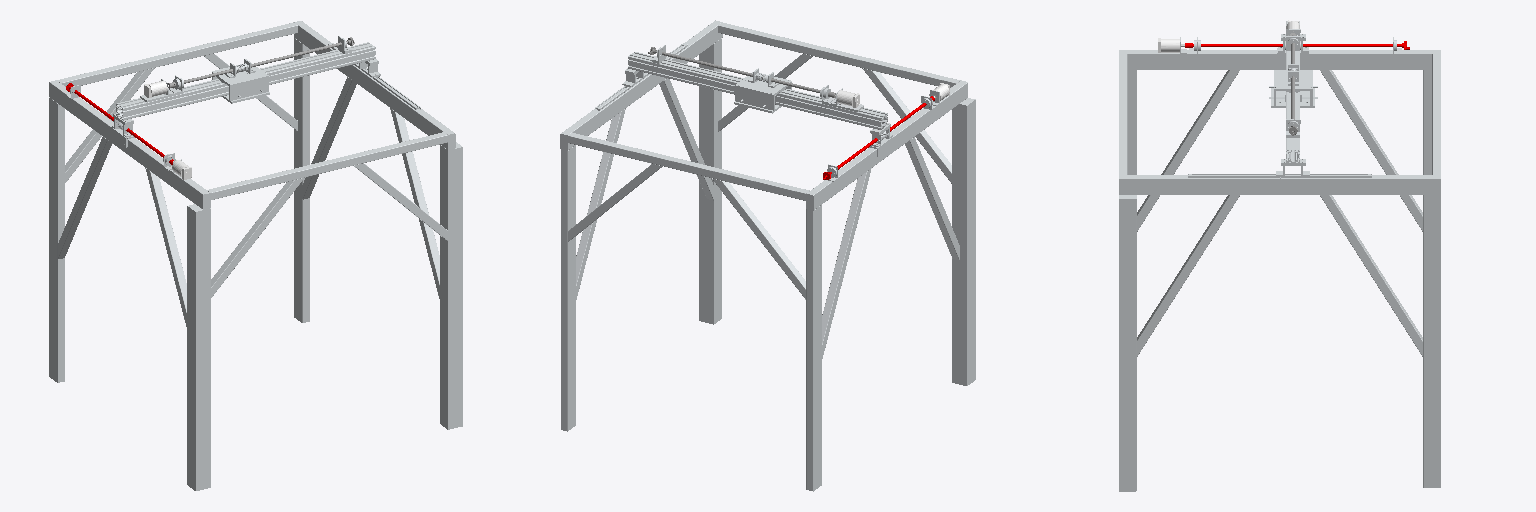
The robot description file, URDF, robot "gantry_description":
<?xml version="1.0" encoding="utf-8"?>
<!-- This URDF was automatically created by SolidWorks to URDF Exporter! Originally created by [author] ([email redacted]) 
     Commit Version: 1.5.1-0-g916b5db  Build Version: 1.5.7152.31018
     For more information, please see http://wiki.ros.org/sw_urdf_exporter -->
<robot
  name="gantry_description">

  <link name="world">
  </link>
  
  <link name="base_link">
    <inertial>
      <origin rpy="0 0 0" xyz="0 0 0.95"/>
      <mass value="236"/>
      <inertia ixx="0" iyy="0" izz="0" ixy="0" ixz="0" iyz="0" />
    </inertial>
    <visual>
      <origin rpy="0 0 0" xyz="0 0 0.95"/>
      <geometry>
        <mesh filename="package://gantry_description/meshes/base_link.STL"/>
      </geometry>
      <material name="">
        <color rgba="0.89804 0.91765 0.92941 1"/>
      </material>
    </visual>
    <collision>
      <origin rpy="0 0 0" xyz="0 0 0.95"/>
      <geometry>
        <mesh filename="package://gantry_description/meshes/base_link.STL"/>
      </geometry>
    </collision>
  </link>

  <joint name="world_to_baselink" type="fixed">
    <origin rpy="0 0 0" xyz="0 0 0"/>
    <parent link="world"/>
    <child link="base_link"/>
    <axis xyz="0 0 0"/>
  </joint>
  
  
  <link name="left_bar">
    <inertial>
      <origin rpy="0 0 0" xyz="0 0 0.95"/>
      <mass value="24.263"/>
      <inertia ixx="0" iyy="0" izz="0" ixy="0" ixz="0" iyz="0" />
    </inertial>
    <visual>
      <origin rpy="0 0 0" xyz="0 0 0.95"/>
      <geometry>
        <mesh filename="package://gantry_description/meshes/left_bar.STL"/>
      </geometry>
      <material name="">
        <color rgba="0.89804 0.91765 0.92941 1"/>
      </material>
    </visual>
    <collision>
      <origin rpy="0 0 0" xyz="0 0 0.95"/>
      <geometry>
        <mesh filename="package://gantry_description/meshes/left_bar.STL"/>
      </geometry>
    </collision>
  </link>
  
  <joint name="f_left_bar" type="fixed">
    <origin rpy="0 0 0" xyz="0 0 0"/>
    <parent link="base_link"/>
    <child link="left_bar"/>
    <axis xyz="0 0 0"/>
  </joint>
  
  
  <link name="right_bar">
    <inertial>
      <origin rpy="0 0 0" xyz="0 0 0.95"/>
      <mass value="24.858"/>
      <inertia ixx="0" iyy="0" izz="0" ixy="0" ixz="0" iyz="0" />
    </inertial>
    <visual>
      <origin rpy="0 0 0" xyz="0 0 0.95"/>
      <geometry>
        <mesh filename="package://gantry_description/meshes/right_bar.STL"/>
      </geometry>
      <material name="">
        <color rgba="0.89804 0.91765 0.92941 1"/>
      </material>
    </visual>
    <collision>
      <origin rpy="0 0 0" xyz="0 0 0.95"/>
      <geometry>
        <mesh filename="package://gantry_description/meshes/right_bar.STL"/>
      </geometry>
    </collision>
  </link>


  <joint name="f_right_bar" type="fixed">
    <origin rpy="0 0 0" xyz="0 0 0"/>
    <parent link="base_link"/>
    <child link="right_bar"/>
    <axis xyz="0 0 0"/>
  </joint>
  
  <link name="right_motor">
    <inertial>
      <origin rpy="0 0 0" xyz="0 0 0.95"/>
      <mass value="0.512"/>
      <inertia ixx="0" iyy="0" izz="0" ixy="0" ixz="0" iyz="0" />
    </inertial>
    <visual>
      <origin rpy="0 0 0" xyz="0 0 0.95"/>
      <geometry>
        <mesh filename="package://gantry_description/meshes/right_motor.STL"/>
      </geometry>
      <material name="">
        <color rgba="1 1 1 1"/>
      </material>
    </visual>
    <collision>
      <origin rpy="0 0 0" xyz="0 0 0.95"/>
      <geometry>
        <mesh filename="package://gantry_description/meshes/right_motor.STL"/>
      </geometry>
    </collision>
  </link>
  
  
  <joint name="f_right_motor" type="fixed">
    <origin rpy="0 0 0" xyz="0 0 0"/>
    <parent link="right_bar"/>
    <child link="right_motor"/>
    <axis xyz="0 0 0"/>
  </joint>
  
  
  <link name="right_rod">
    <inertial>
      <origin rpy="0 0 0" xyz="0 0 0.95"/>
      <mass value="0.02709"/>
      <inertia ixx="4.5437E-05" iyy="4.0541E-06" izz="4.5437E-05" ixy="0" ixz="0" iyz="0" />
    </inertial>
    <visual>
      <origin rpy="0 0 0" xyz="0 0 0.95"/>
      <geometry>
        <mesh filename="package://gantry_description/meshes/right_rod.STL"/>
      </geometry>
      <material name="">
        <color rgba="1 0 0 1"/>
      </material>
    </visual>
    <collision>
      <origin rpy="0 0 0" xyz="0 0 0.95"/>
      <geometry>
        <mesh filename="package://gantry_description/meshes/right_rod.STL"/>
      </geometry>
    </collision>
  </link>
  
  
  <joint name="f_right_rod" type="fixed">
    <origin rpy="0 0 0" xyz="0 0 0"/>
    <parent link="right_motor"/>
    <child link="right_rod"/>
    <axis xyz="0 0 0"/>
  </joint>
  
  
  <link name="motion1_slider">
    <inertial>
      <origin rpy="0 0 0" xyz="0 0 0.95"/>
      <mass value="1.8544"/>
      <inertia ixx="0" iyy="0" izz="0" ixy="2.0988E-07" ixz="-4.5186E-05" iyz="1.6779E-07" />
    </inertial>
    <visual>
      <origin rpy="0 0 0" xyz="0 0 0.95"/>
      <geometry>
        <mesh filename="package://gantry_description/meshes/motion1_slider.STL"/>
      </geometry>
      <material name="">
        <color rgba="0.89804 0.91765 0.92941 1"/>
      </material>
    </visual>
    <collision>
      <origin rpy="0 0 0" xyz="0 0 0.95"/>
      <geometry>
        <mesh filename="package://gantry_description/meshes/motion1_slider.STL"/>
      </geometry>
    </collision>
  </link>
  
  
  <joint name="p_motion1" type="prismatic">
    <origin rpy="0 0 0" xyz="0 0 0"/>
    <parent link="right_rod"/>
    <child link="motion1_slider"/>
    <axis xyz="0 1 0"/>
    <limit effort="10" lower="-0.4" upper="0.4" velocity="50"/>
  </joint>
  
  
  <link name="top_bar">
    <inertial>
      <origin rpy="0 0 0" xyz="0 0 0.95"/>
      <mass value="10.652"/>
      <inertia ixx="0" iyy="0" izz="0" ixy="3.5377E-07" ixz="1.4909E-05" iyz="8.3927E-06" />
    </inertial>
    <visual>
      <origin rpy="0 0 0" xyz="0 0 0.95"/>
      <geometry>
        <mesh filename="package://gantry_description/meshes/top_bar.STL"/>
      </geometry>
      <material name="">
        <color rgba="0.89804 0.91765 0.92941 1"/>
      </material>
    </visual>
    <collision>
      <origin rpy="0 0 0" xyz="0 0 0.95"/>
      <geometry>
        <mesh filename="package://gantry_description/meshes/top_bar.STL"/>
      </geometry>
    </collision>
  </link>
  
  
  <joint name="f_top_bar" type="fixed">
    <origin rpy="0 0 0" xyz="0 0 0"/>
    <parent link="motion1_slider"/>
    <child link="top_bar"/>
    <axis xyz="0 0 0"/>
  </joint>


  <link name="top_motor">
    <inertial>
      <origin rpy="0 0 0" xyz="0 0 0.95"/>
      <mass value="0.512"/>
      <inertia ixx="0.00037705" iyy="0.00067285" izz="0.00067164" ixy="9.6148E-08" ixz="-2.118E-09" iyz="4.946E-08" />
    </inertial>
    <visual>
      <origin rpy="0 0 0" xyz="0 0 0.95"/>
      <geometry>
        <mesh filename="package://gantry_description/meshes/top_motor.STL"/>
      </geometry>
      <material name="">
        <color rgba="1 1 1 1"/>
      </material>
    </visual>
    <collision>
      <origin rpy="0 0 0" xyz="0 0 0.95"/>
      <geometry>
        <mesh filename="package://gantry_description/meshes/top_motor.STL"/>
      </geometry>
    </collision>
  </link>
  
  
  <joint name="f_top_motor" type="fixed">
    <origin rpy="0 0 0" xyz="0 0 0"/>
    <parent link="top_bar"/>
    <child link="top_motor"/>
    <axis xyz="0 0 0"/>
  </joint>
  
  
  <link name="top_rod">
    <inertial>
      <origin rpy="0 0 0" xyz="0 0 0.95"/>
      <mass value="0.02709"/>
      <inertia ixx="4.0541E-06" iyy="4.5437E-05" izz="4.5437E-05" ixy="1.4106E-11" ixz="-4.8609E-11" iyz="-3.8569E-11"/>
    </inertial>
    <visual>
      <origin rpy="0 0 0" xyz="0 0 0.95"/>
      <geometry>
        <mesh filename="package://gantry_description/meshes/top_rod.STL"/>
      </geometry>
      <material name="">
        <color rgba="0.68627 0.68627 0.68627 1"/>
      </material>
    </visual>
    <collision>
      <origin rpy="0 0 0" xyz="0 0 0.95"/>
      <geometry>
        <mesh filename="package://gantry_description/meshes/top_rod.STL"/>
      </geometry>
    </collision>
  </link>


  <joint name="f_top_rod" type="fixed">
    <origin rpy="0 0 0" xyz="0 0 0"/>
    <parent link="top_motor"/>
    <child link="top_rod"/>
    <axis xyz="0 0 0"/>
  </joint>


  <link name="motion2_slider">
    <inertial>
      <origin rpy="0 0 0" xyz="0 0 0.95"/>
      <mass value="6.9597"/>
      <inertia ixx="0" ixy="-2.0988E-07" iyy="0" izz="0" ixz="-1.7396E-07" iyz="-4.3519E-11" />
    </inertial>
    <visual>
      <origin rpy="0 0 0" xyz="0 0 0.95"/>
      <geometry>
        <mesh filename="package://gantry_description/meshes/motion2_slider.STL"/>
      </geometry>
      <material name="">
        <color rgba="0.89804 0.91765 0.92941 1"/>
      </material>
    </visual>
    <collision>
      <origin rpy="0 0 0" xyz="0 0 0.95"/>
      <geometry>
        <mesh filename="package://gantry_description/meshes/motion2_slider.STL"/>
      </geometry>
    </collision>
  </link>
  
  
  <joint name="p_motion2" type="prismatic">
    <origin rpy="0 0 0" xyz="0 0 0"/>
    <parent link="top_rod"/>
    <child link="motion2_slider"/>
    <axis xyz="1 0 0"/>
    <limit effort="10" lower="-0.4" upper="0.4" velocity="50"/>
  </joint>


  <transmission name="trans_p_motion1">
      <type>transmission_interface/SimpleTransmission</type>
      <joint name="p_motion1">
          <hardwareInterface>PositionJointInterface</hardwareInterface>
      </joint>
      <actuator name="p_motion1_motor">
          <hardwareInterface>PositionJointInterface</hardwareInterface>
          <mechanicalReduction>1</mechanicalReduction>
      </actuator>
  </transmission>
  
  <transmission name="trans_p_motion2">
      <type>transmission_interface/SimpleTransmission</type>
      <joint name="p_motion2">
          <hardwareInterface>PositionJointInterface</hardwareInterface>
      </joint>
      <actuator name="p_motion2_motor">
          <hardwareInterface>PositionJointInterface</hardwareInterface>
          <mechanicalReduction>1</mechanicalReduction>
      </actuator>
  </transmission>

  <gazebo>
    <plugin name="control" filename="libgazebo_ros_control.so"/>
  </gazebo>


  <gazebo>
    <plugin name="joint_state_publisher" filename="libgazebo_ros_joint_state_publisher.so">
      <jointName>p_motion1, p_motion2</jointName>
    </plugin>
  </gazebo>



</robot>

--- What the picture shows (computed from the rendered views, not written in the file) ---
The picture shows the robot from 3 angles, left to right: view 1: azimuth 30°, elevation 25°; view 2: azimuth 150°, elevation 25°; view 3: azimuth 270°, elevation 25°; orthographic projection.
Model gantry_description with 11 links and 10 joints (2 prismatic, 8 fixed), rooted at world, posed all joints at 0.
Links seen in each view (by area): view 1: base_link, top_bar, right_bar, left_bar, motion2_slider, top_rod; view 2: base_link, top_bar, right_bar, left_bar, motion2_slider, top_rod; view 3: base_link, left_bar, right_bar, top_bar, motion2_slider, right_rod.
Link boxes in pixels (<box>): base_link: <box>49,22,462,490</box>; top_bar: <box>116,36,380,120</box>; right_bar: <box>49,80,210,209</box>; left_bar: <box>294,21,455,149</box>; motion2_slider: <box>212,59,269,103</box>; top_rod: <box>168,37,354,88</box>; base_link: <box>561,22,975,491</box>; top_bar: <box>622,45,887,129</box>; right_bar: <box>806,80,967,210</box>; left_bar: <box>560,20,722,150</box>; motion2_slider: <box>734,68,791,113</box>; top_rod: <box>648,47,835,97</box>; base_link: <box>1119,54,1440,491</box>; left_bar: <box>1119,174,1440,194</box>; right_bar: <box>1119,37,1440,69</box>; top_bar: <box>1276,21,1309,178</box>; motion2_slider: <box>1269,64,1317,107</box>; right_rod: <box>1185,41,1409,49</box>.
Size in the robot's own frame: 1.8 by 1.8 by 2.17 metres.
Meshes: 10 distinct files referenced, 10 mesh visuals loaded (10 binary STL).